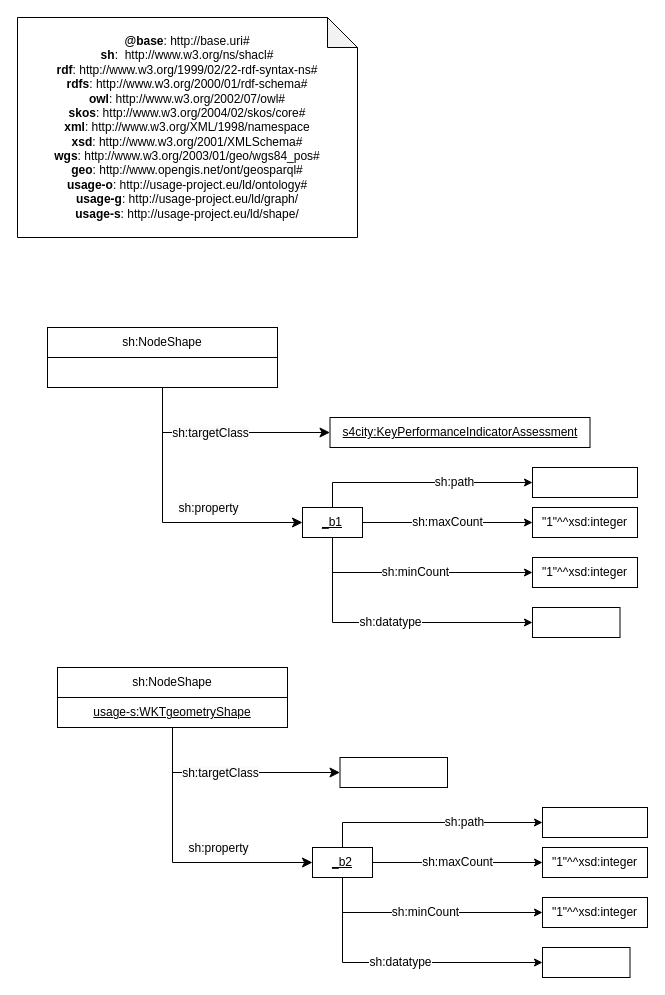
The diagram is 665 pixels wide and 995 high, and some of its shapes have lost their labels. Each missing label, with the box of its shape:
geo:asWKT: (542, 806, 648, 838)
geo:Geometry: (339, 756, 448, 788)
geo:wktLiteral: (542, 946, 630, 978)
saref:hasValue: (532, 466, 638, 498)
usage-s:KPIAssessmentDatatypeShape: (46, 356, 278, 388)
xsd:float: (532, 606, 620, 638)
